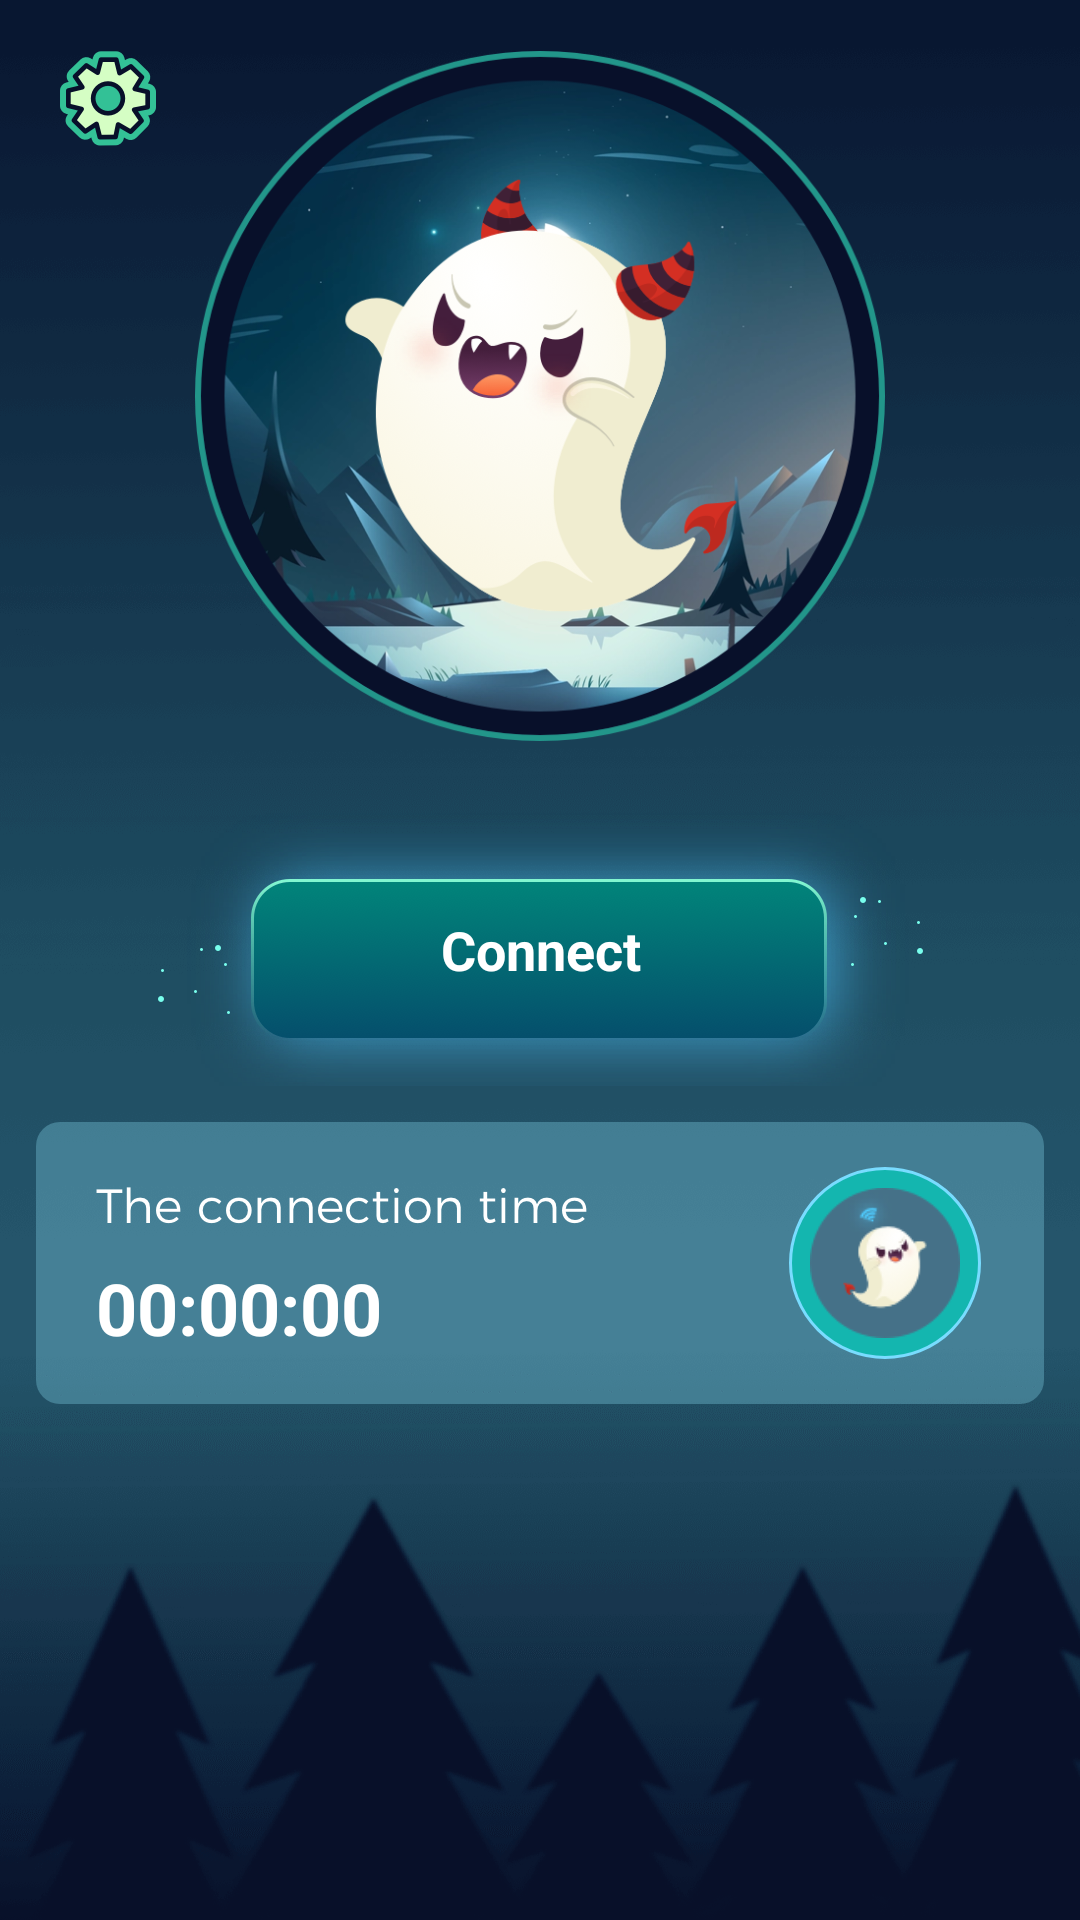

Icon click points for this 1080px×1920px phone screenshot, format (x,y):
home set: (108,98)
